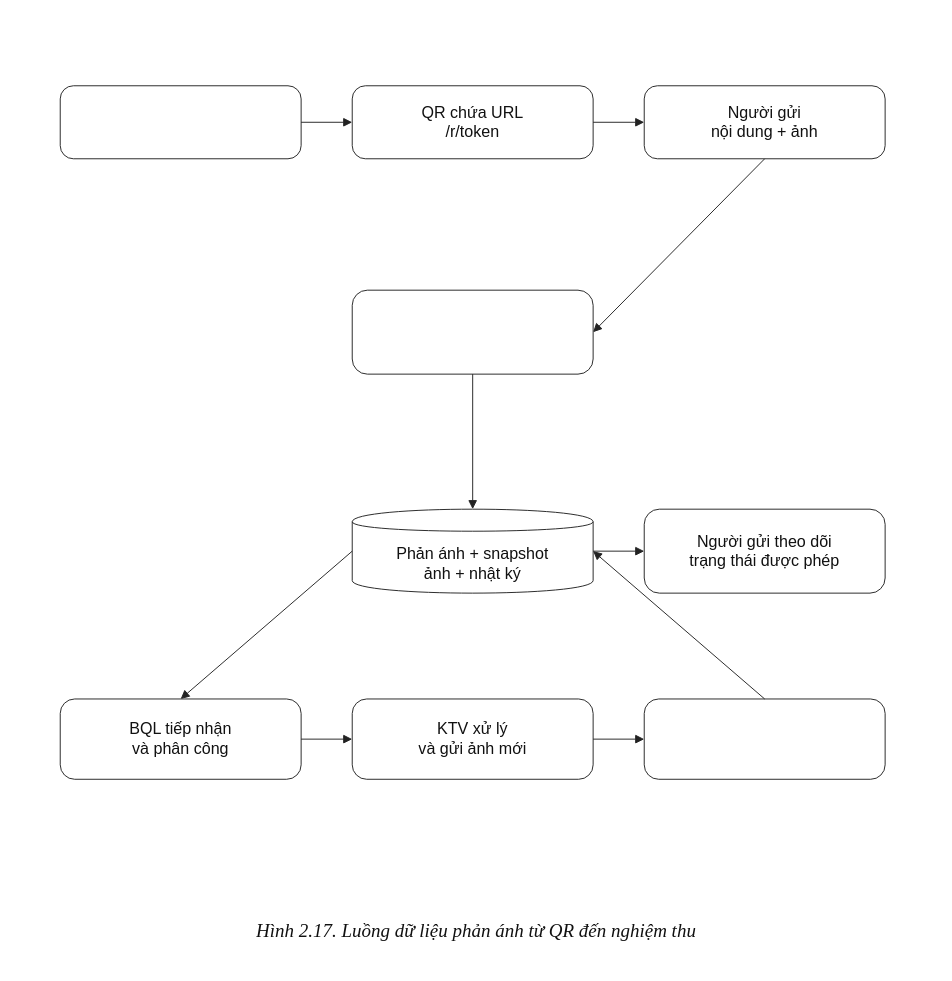
This 952x981 diagram has some shape labels left out. Here are the shapes that lost their labels. From the top down, the centre of each, then its label:
(180,122): BQL cấu hình vị trí / thiết bị
(472,331): API: QR / quyền / ảnh giới hạn / chống gửi lặp
(764,738): BQL nghiệm thu hoặc trả lại
